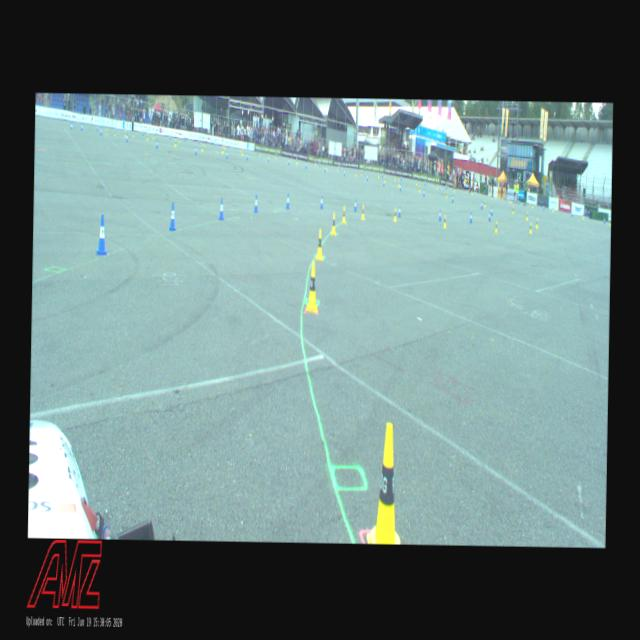blue_cone: (95, 214, 108, 255), (168, 202, 178, 230), (218, 198, 224, 220), (254, 195, 258, 212), (286, 193, 290, 209), (438, 208, 442, 220), (320, 194, 323, 208), (469, 212, 472, 222), (354, 198, 356, 212), (194, 146, 197, 155), (398, 206, 400, 217), (488, 210, 490, 221), (490, 207, 492, 216), (480, 200, 482, 209), (226, 150, 228, 159), (156, 139, 158, 148)
yellow_cone: (366, 422, 402, 544), (306, 262, 318, 312), (316, 228, 323, 260), (330, 212, 336, 235), (342, 206, 346, 223), (360, 203, 364, 220), (442, 215, 446, 228), (528, 222, 532, 233), (534, 218, 538, 228), (494, 220, 497, 233), (394, 208, 396, 222), (525, 211, 528, 220), (512, 205, 514, 214), (146, 132, 148, 140)
